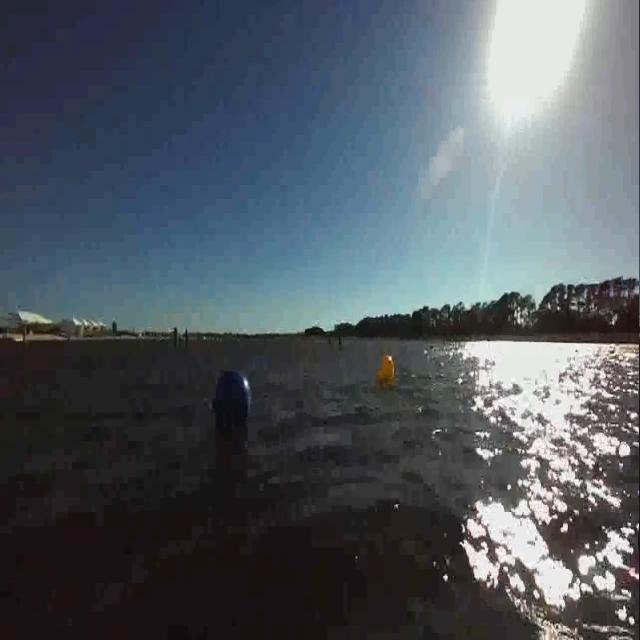blue-buoy: (211, 367, 250, 430)
yellow-buoy: (378, 353, 396, 387)
